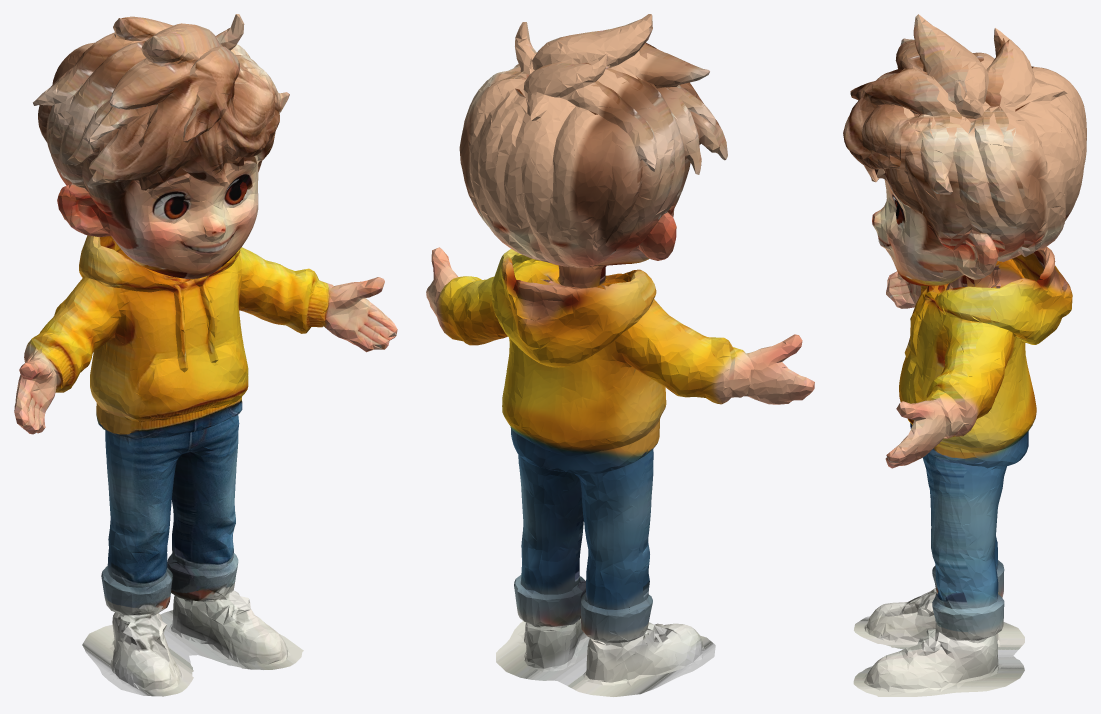
The model's file is noam.glb.
3 renders of one model, left to right at view 1: azimuth 30°, elevation 25°; view 2: azimuth 150°, elevation 25°; view 3: azimuth 270°, elevation 25°, orthographic. The views are drawn at different scales.
Parts seen in each view (by area): view 1: geometry_0; view 2: geometry_0; view 3: geometry_0.
Part boxes in pixels (<box>): geometry_0: <box>14,14,397,696</box>; geometry_0: <box>426,14,814,696</box>; geometry_0: <box>843,14,1086,696</box>.
Size of the model in its own units: 1.09 by 1.75 by 0.6203.
Materials: 1 (1 with a texture image).
